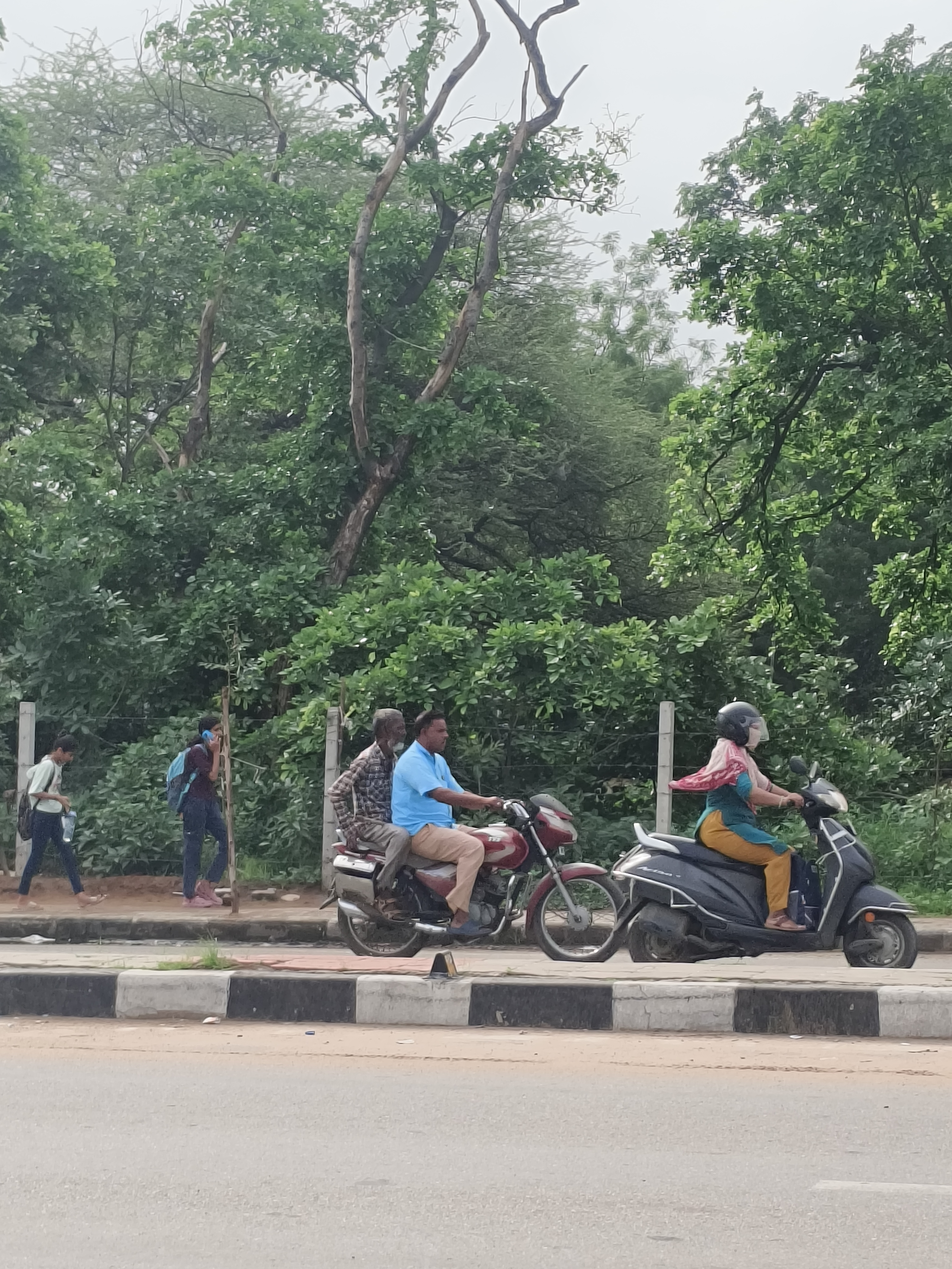BikeWithRider: (596, 692, 931, 976), (313, 699, 632, 964)
Helmet: (709, 694, 774, 758)
NoHelmet: (366, 703, 412, 757), (412, 706, 456, 760)
